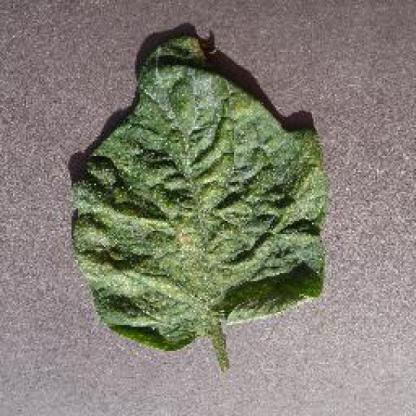Tomato_Spider_Mites: (75, 34, 322, 349)
